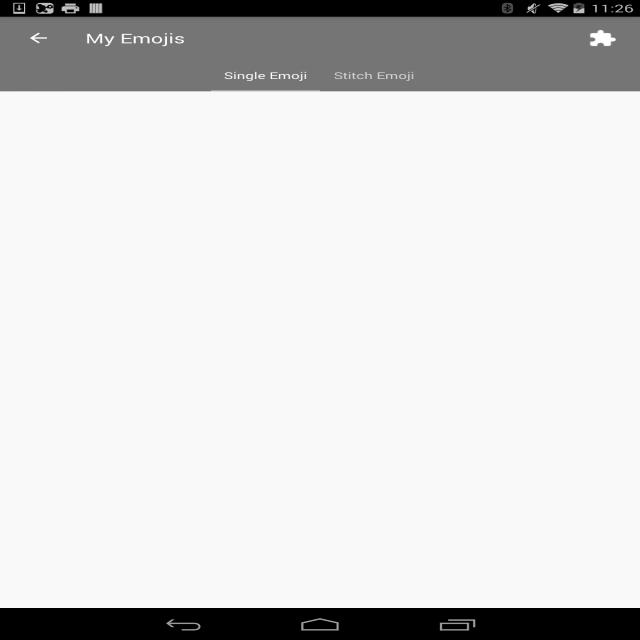ImageButton: (9, 17, 68, 59)
TextView: (572, 22, 631, 54), (85, 29, 185, 47), (224, 69, 307, 82), (334, 69, 414, 82)
